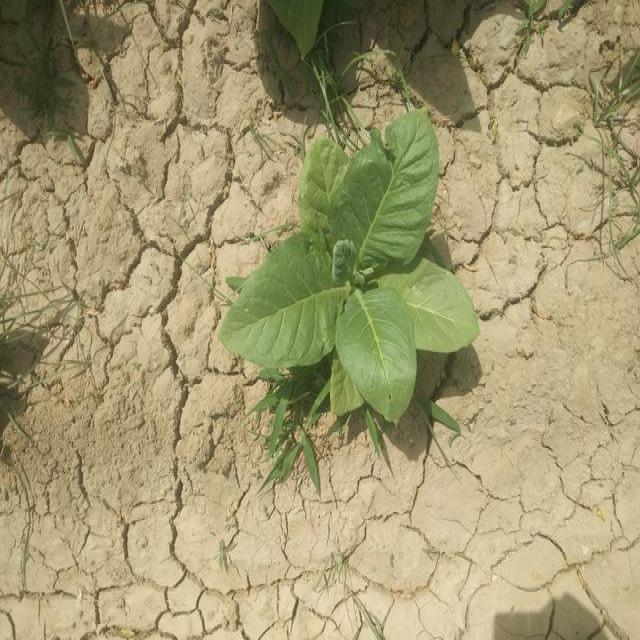crop: (226, 121, 485, 429)
